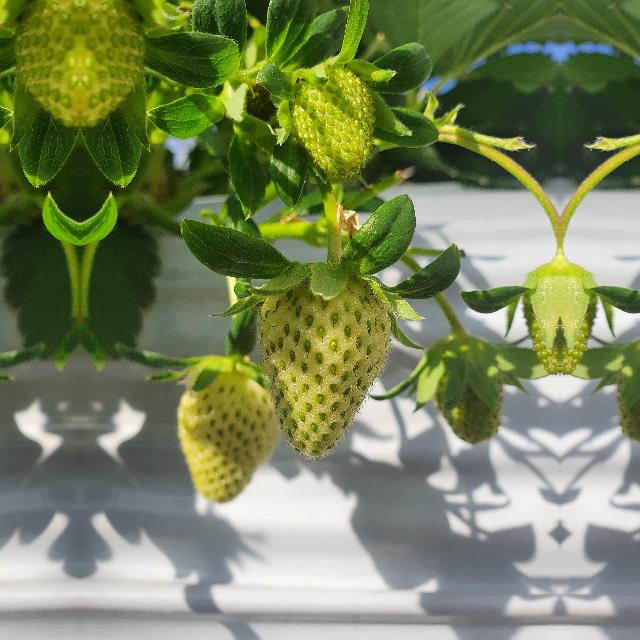Health_25: (258, 265, 390, 457), (170, 355, 278, 505), (284, 55, 376, 175), (422, 336, 510, 444), (521, 258, 559, 372), (561, 258, 599, 372), (610, 336, 640, 443)
